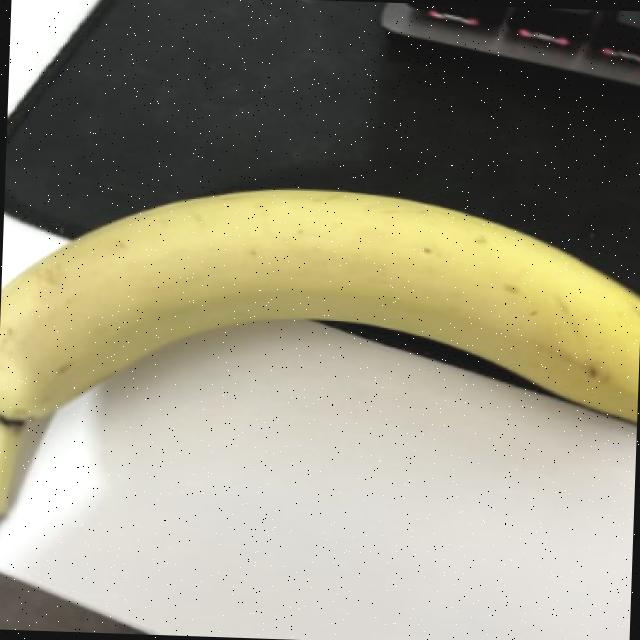Ripe: (0, 138, 640, 601)
